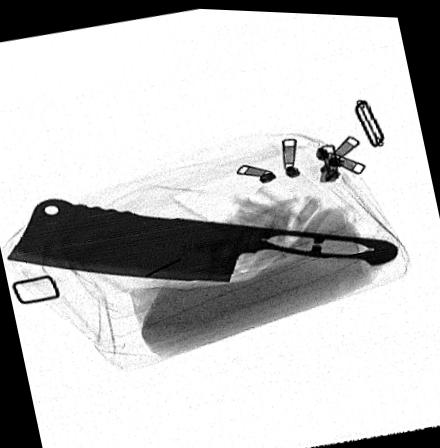Knife: (4, 197, 401, 280)
